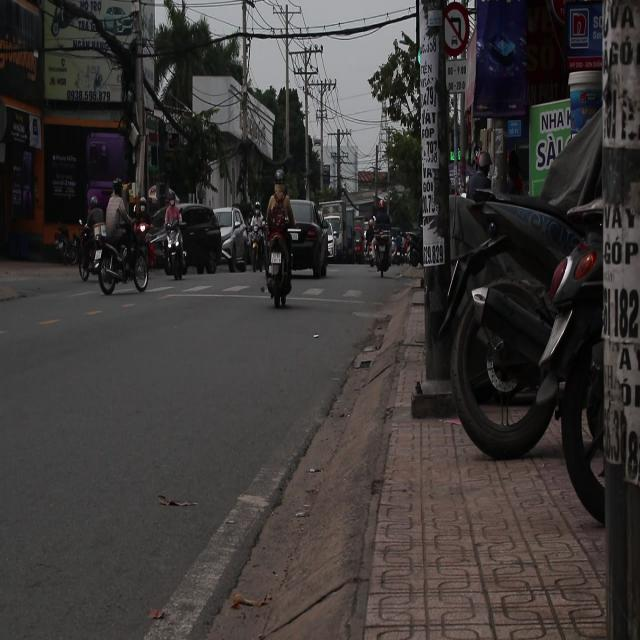car: (287, 200, 330, 278), (178, 205, 224, 272), (213, 207, 248, 270)
motorbike: (88, 210, 152, 310), (250, 208, 296, 314), (64, 204, 111, 278), (365, 200, 397, 288), (149, 219, 188, 281)
truck: (317, 202, 354, 260)
